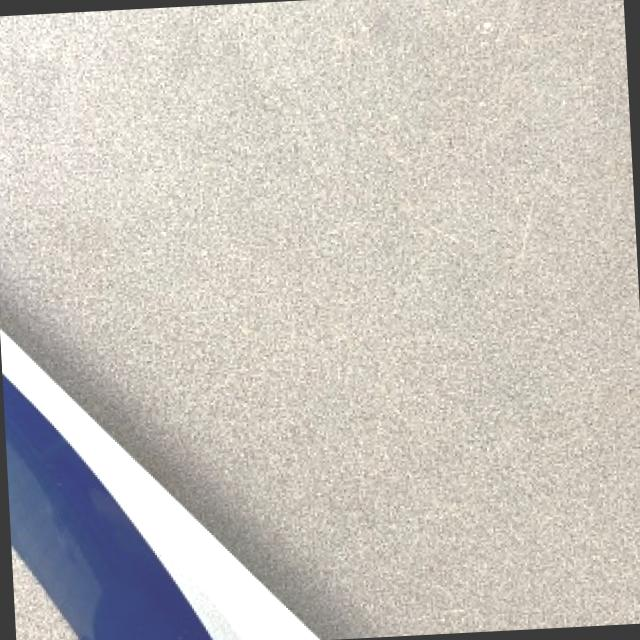healthy: (0, 2, 377, 638)
